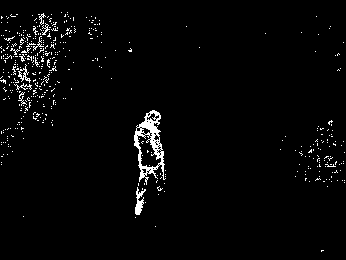person: (136, 109, 164, 221)
